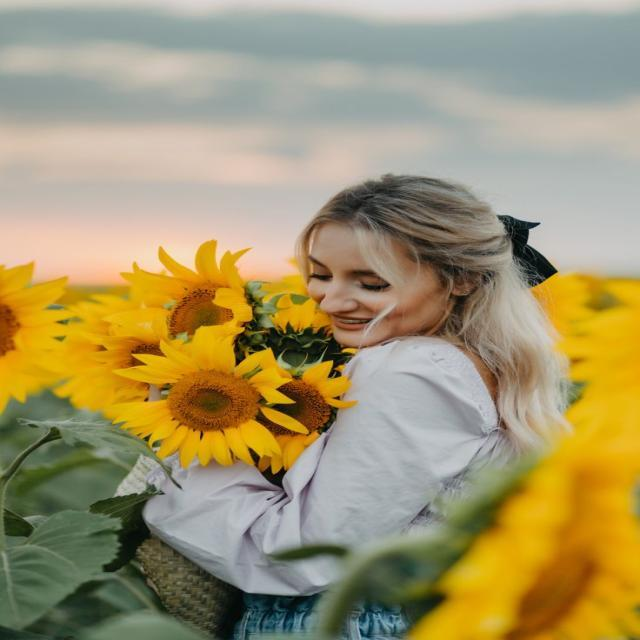sunflower: (405, 431, 638, 639), (109, 324, 308, 470), (52, 268, 174, 419), (101, 238, 254, 342), (248, 348, 358, 474), (0, 260, 75, 414), (85, 318, 194, 401), (260, 256, 333, 336), (571, 358, 640, 432), (580, 279, 640, 359), (528, 272, 598, 330), (561, 336, 619, 380)
